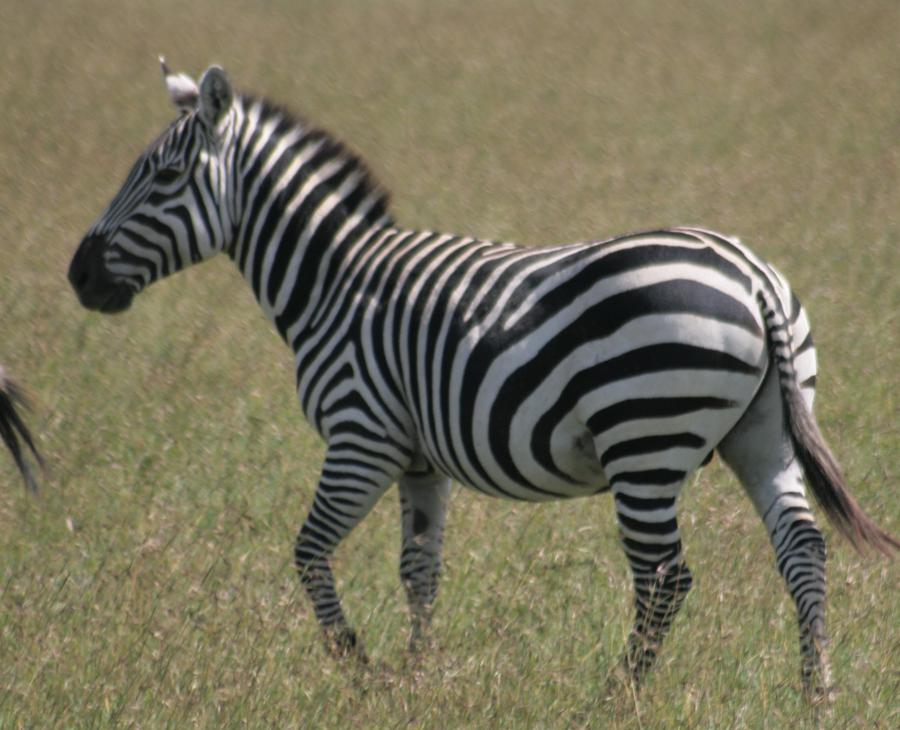zebra_plains: (303, 214, 726, 526)
